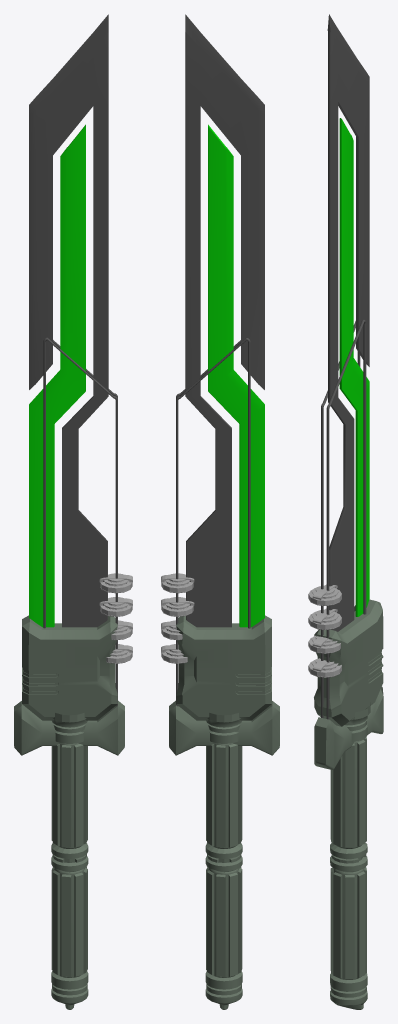
Rendered from BSword10.fbx.
3 renders of one model, left to right at view 1: azimuth 30°, elevation 25°; view 2: azimuth 210°, elevation 25°; view 3: azimuth 270°, elevation 25°, orthographic.
Parts seen in each view (by area): view 1: polySurface16, polySurface17, Grip14, pCube12, pCube14, pCylinder5, Hilt16, Hilt17, Hilt18, Hilt19; view 2: polySurface16, polySurface17, Grip14, pCube12, pCube14, pCylinder6, Hilt16, Hilt17, Hilt18, Hilt19; view 3: polySurface16, Grip14, polySurface17, pCube12, pCylinder6, pCube14, pCylinder5, Hilt17, Hilt16, Hilt18, Hilt19.
Boxes of the visible parts, x1=… form: polySurface16: x1=29, y1=14, x2=108, y2=627; polySurface17: x1=29, y1=124, x2=85, y2=627; Grip14: x1=51, y1=713, x2=88, y2=1009; pCube12: x1=22, y1=615, x2=117, y2=720; pCube14: x1=14, y1=700, x2=124, y2=755; pCylinder5: x1=43, y1=337, x2=117, y2=706; Hilt16: x1=99, y1=573, x2=132, y2=593; Hilt17: x1=99, y1=597, x2=132, y2=616; Hilt18: x1=106, y1=644, x2=132, y2=663; Hilt19: x1=111, y1=620, x2=132, y2=640; polySurface16: x1=185, y1=14, x2=264, y2=627; polySurface17: x1=208, y1=124, x2=264, y2=627; Grip14: x1=205, y1=713, x2=242, y2=1009; pCube12: x1=176, y1=615, x2=271, y2=720; pCube14: x1=169, y1=700, x2=279, y2=755; pCylinder6: x1=176, y1=338, x2=250, y2=706; Hilt16: x1=161, y1=573, x2=194, y2=593; Hilt17: x1=161, y1=597, x2=194, y2=616; Hilt18: x1=161, y1=644, x2=187, y2=663; Hilt19: x1=161, y1=620, x2=182, y2=640; polySurface16: x1=327, y1=14, x2=369, y2=631; Grip14: x1=330, y1=702, x2=370, y2=1009; polySurface17: x1=339, y1=118, x2=369, y2=616; pCube12: x1=314, y1=599, x2=383, y2=726; pCylinder6: x1=326, y1=319, x2=366, y2=719; pCube14: x1=314, y1=687, x2=383, y2=769; pCylinder5: x1=321, y1=321, x2=360, y2=718; Hilt17: x1=308, y1=608, x2=341, y2=629; Hilt16: x1=308, y1=584, x2=341, y2=605; Hilt18: x1=308, y1=658, x2=341, y2=677; Hilt19: x1=308, y1=635, x2=340, y2=653.
Bounding box in the file's own units: 0.8774 × 8.85 × 0.5972.
